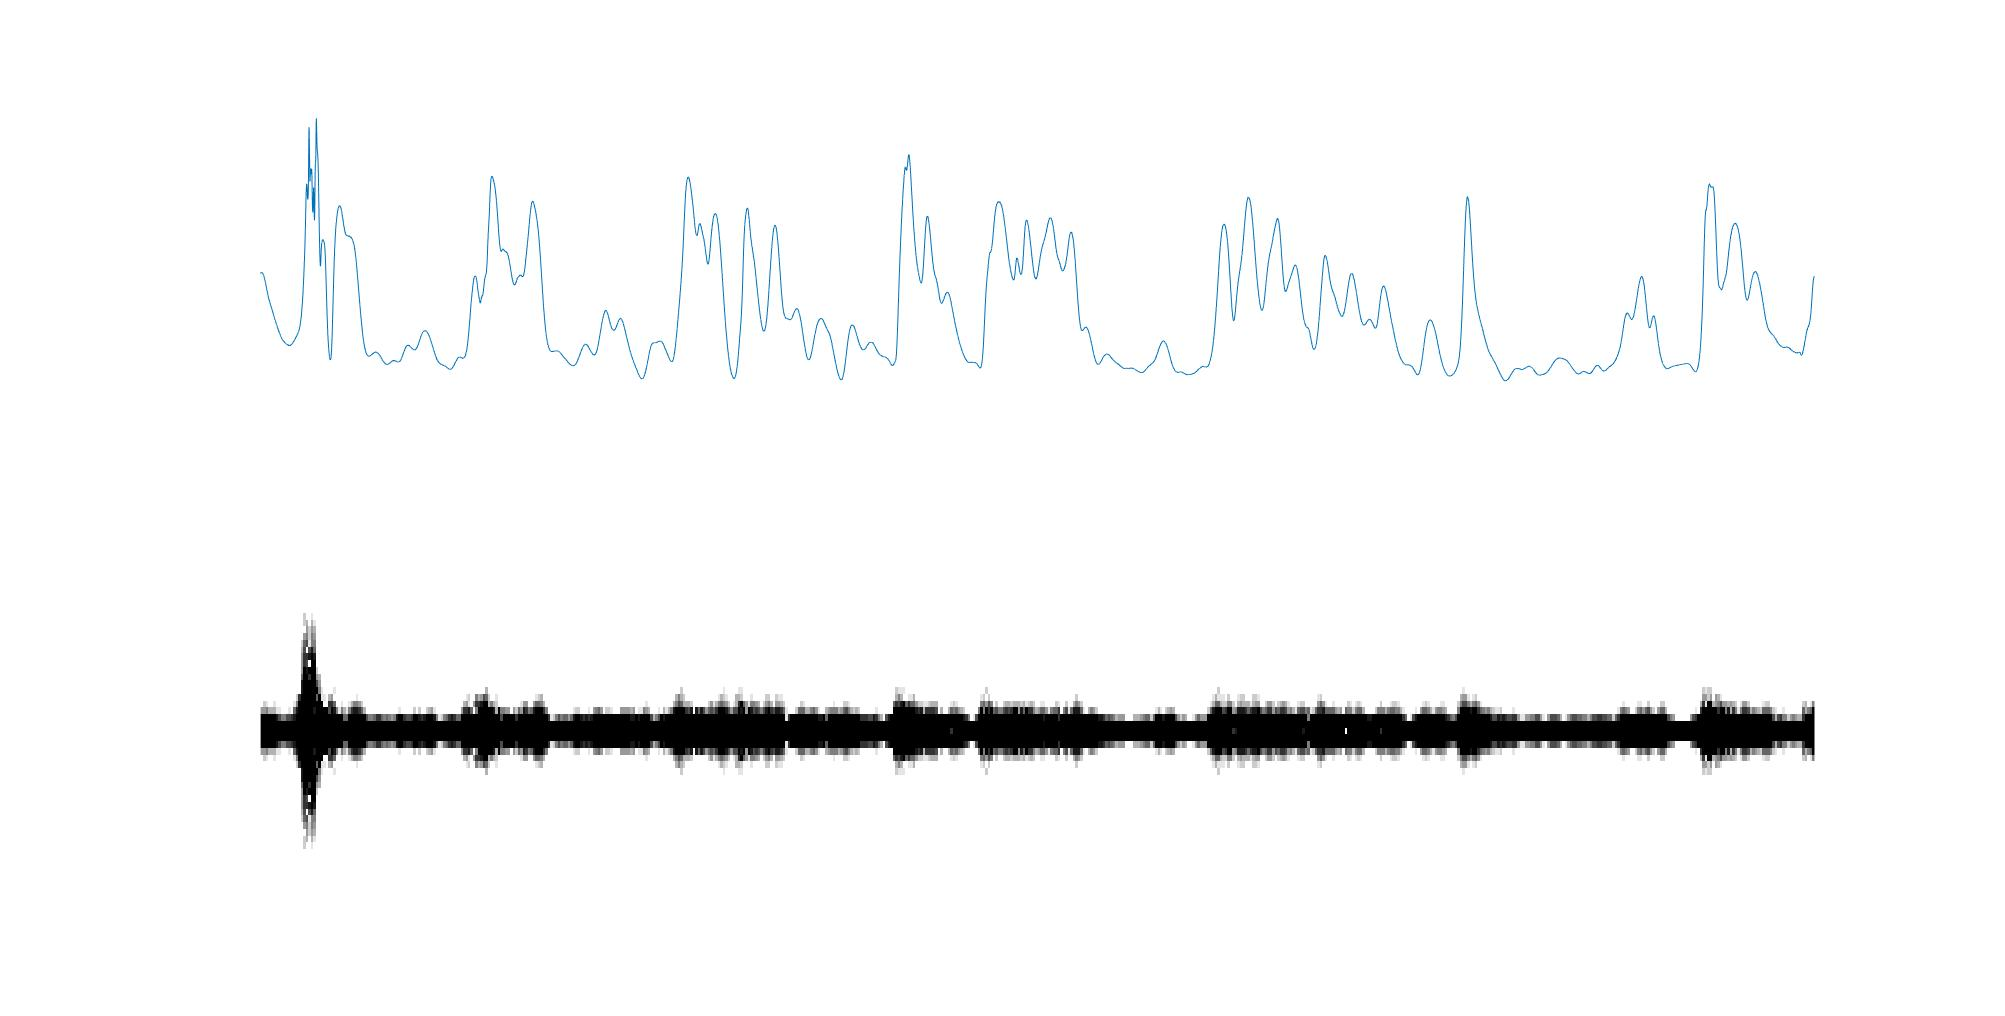spot: (294, 608, 326, 851)
